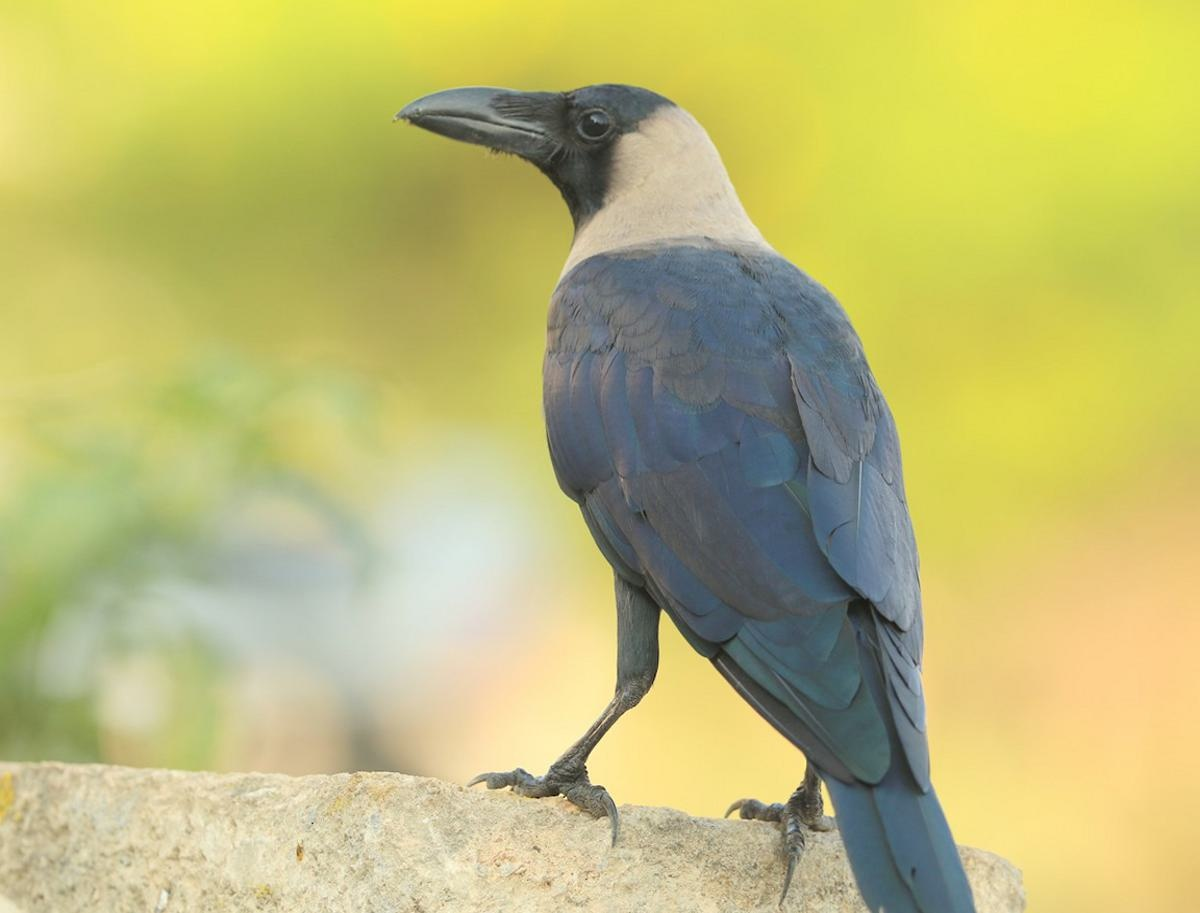crow: (382, 61, 1052, 913)
